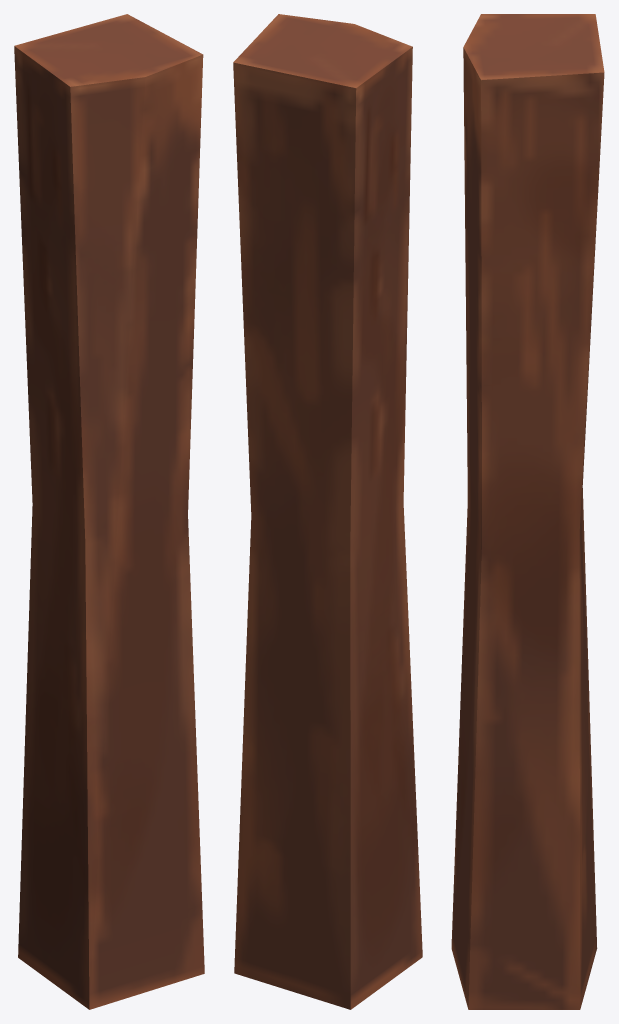
File: Tria_P_Plank.fbx
3 views of the same model, side by side, from view 1: azimuth 30°, elevation 25°; view 2: azimuth 150°, elevation 25°; view 3: azimuth 270°, elevation 25° (orthographic). The views are drawn at different scales.
Parts seen in each view (by area): view 1: Tria_P_Plank_Model; view 2: Tria_P_Plank_Model; view 3: Tria_P_Plank_Model.
Part boxes in pixels (x1=…): Tria_P_Plank_Model: x1=14, y1=14, x2=204, y2=1009; Tria_P_Plank_Model: x1=233, y1=14, x2=422, y2=1009; Tria_P_Plank_Model: x1=451, y1=14, x2=604, y2=1009.
Bounding box in the file's own units: 28.52 × 187 × 27.85.
